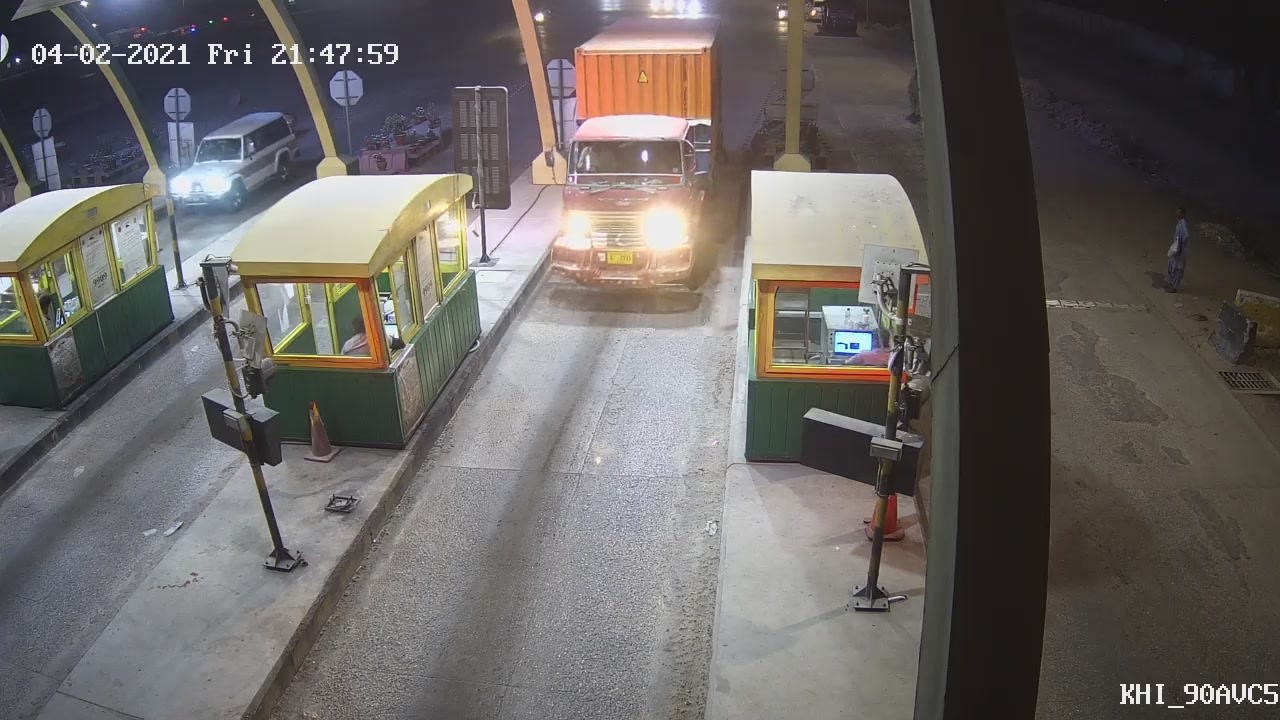F6: (541, 15, 746, 306)
